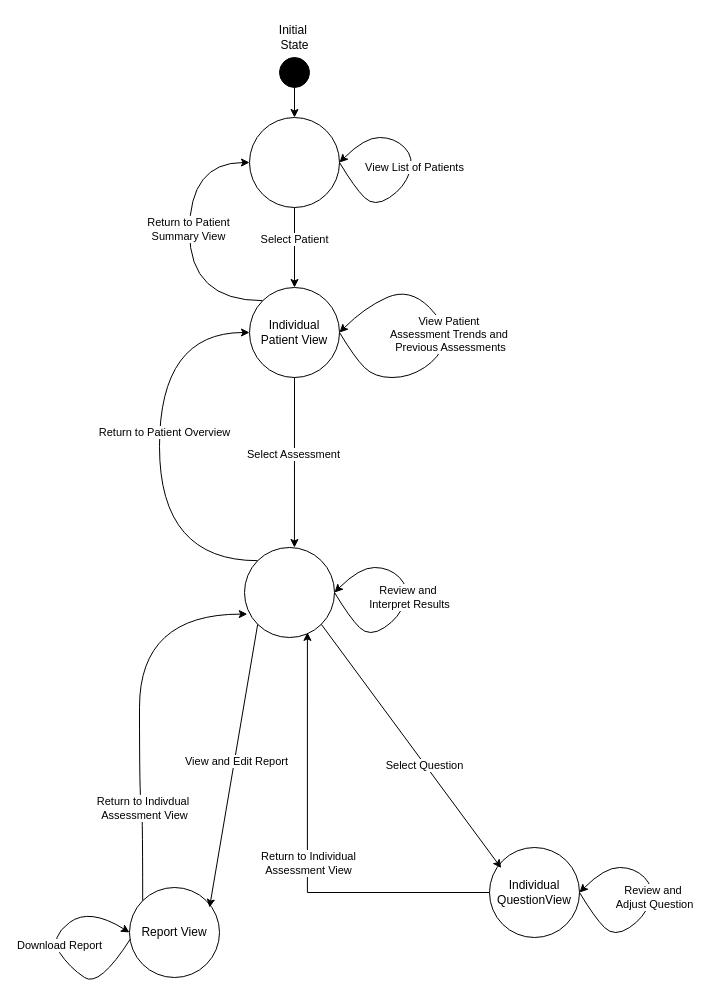
Some shapes in this 711 by 997 pixel diagram are drawn without their labels. The shapes that lost their labels are listed below. From the top down, each one's centre as x and y in pixels, then its label:
At (294,162): "Patient Summary View".
At (289,592): "Individual Assessment View".
